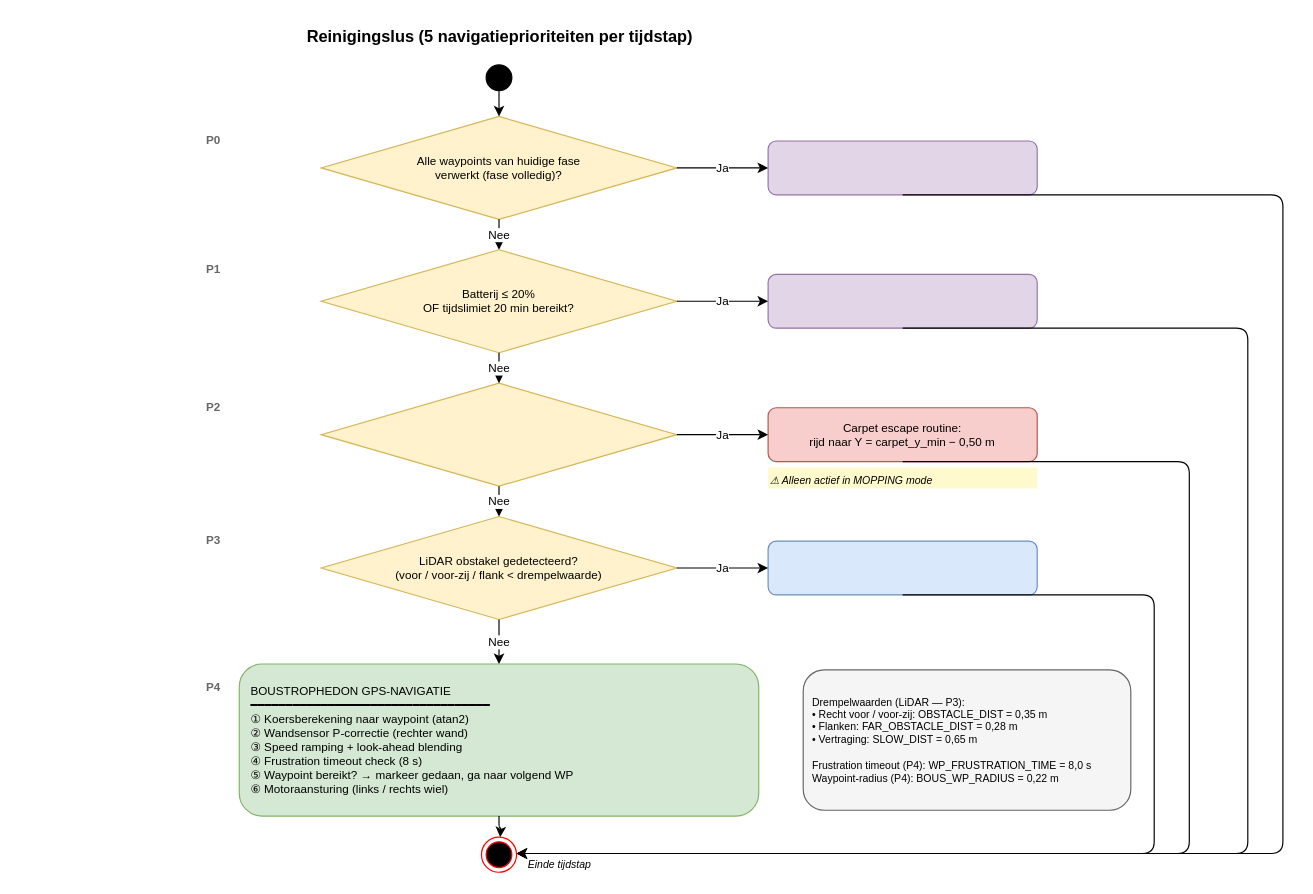
The diagram is 1313 pixels wide and 894 high, and some of its shapes have lost their labels. Here are the shapes that lost their labels. From the top down, the centre of each, then its label:
At [902,167]: "Stel state ← RETURNING (fase volledig gereinigd)".
At [902,300]: "Stel state ← RETURNING (lage batterij / tijdslimiet)".
At [498,434]: "MOPPING mode AND tapijtsensor actief / robot op tapijt?".
At [902,567]: "Obstakelontwijking: bijsturen motoren op basis van LiDAR-sector".
